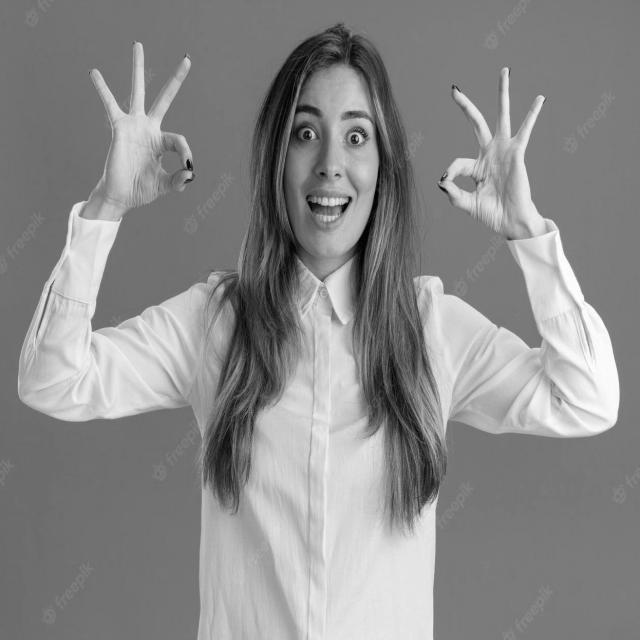perfect: (432, 57, 550, 238), (85, 34, 201, 215)
